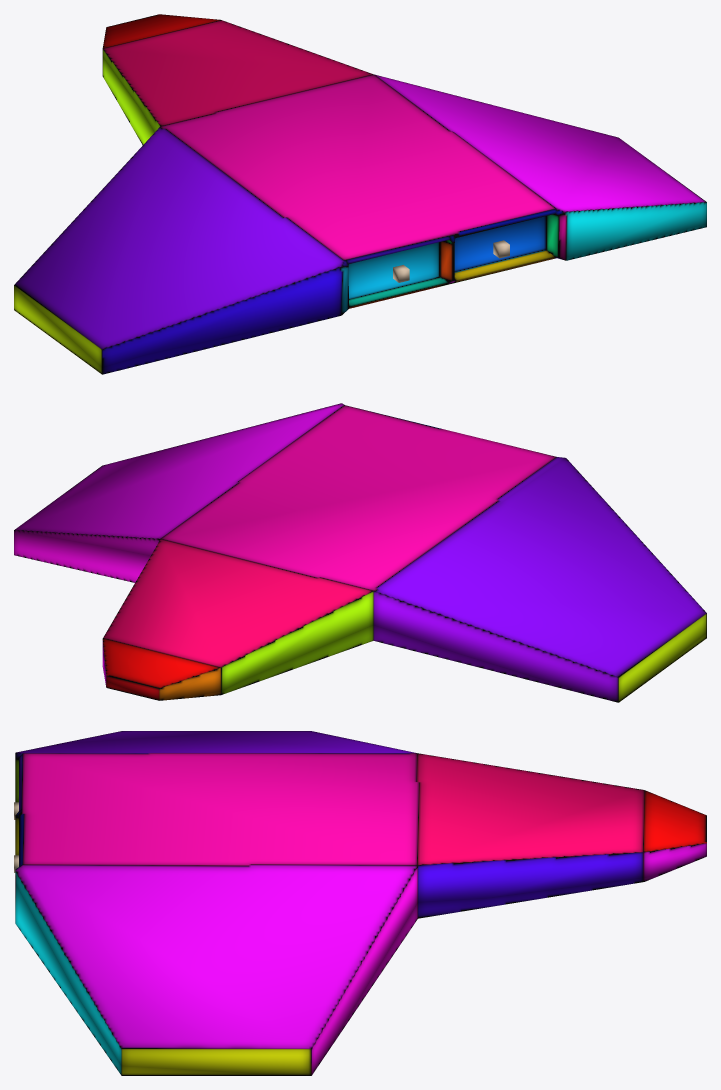
File: hull.obj
The picture shows the model from 3 angles, top to bottom: view 1: azimuth 30°, elevation 25°; view 2: azimuth 150°, elevation 25°; view 3: azimuth 270°, elevation 25°; orthographic projection. The views are drawn at different scales.
Parts seen in each view (by area): view 1: Cube1; view 2: Cube1; view 3: Cube1.
Part boxes in pixels (left/top/right/bottom): Cube1: left=14, top=14, right=706, bottom=374; Cube1: left=14, top=403, right=706, bottom=702; Cube1: left=15, top=731, right=706, bottom=1075.
Size of the model in its own units: 5.68 by 0.8973 by 5.23.
Materials: 2 (1 with a texture image).
